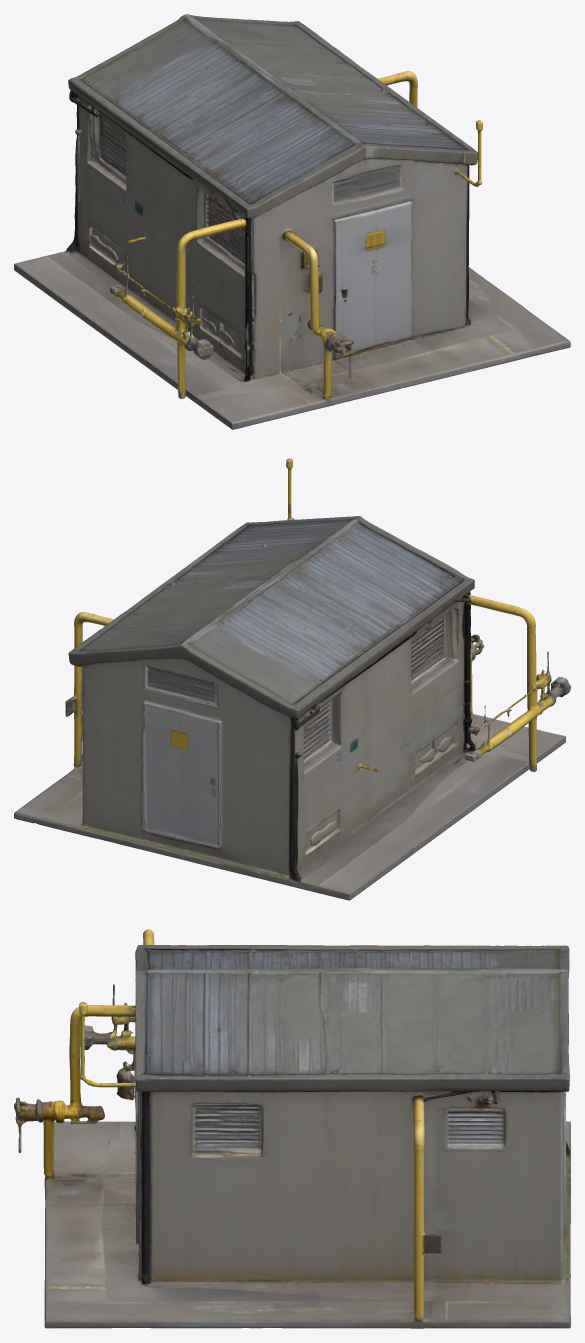
Rendered from remi.glb.
3 views of the same model, one above another, from view 1: azimuth 30°, elevation 25°; view 2: azimuth 150°, elevation 25°; view 3: azimuth 270°, elevation 25° (orthographic). The views are drawn at different scales.
Size of the model in its own units: 1.79 by 1.11 by 1.99.
1 material, 1 textured.
